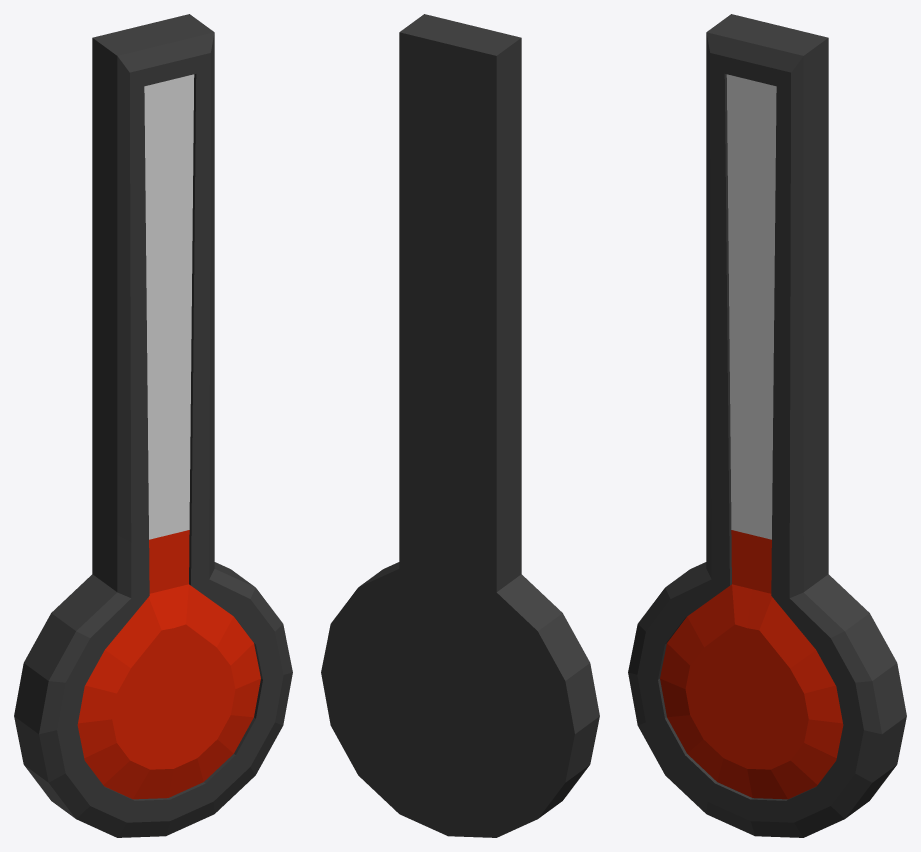
File: Thermometer.fbx
3 views of the same model, side by side, from view 1: azimuth 30°, elevation 25°; view 2: azimuth 150°, elevation 25°; view 3: azimuth 330°, elevation 25° (orthographic).
Visible parts, largest first — view 1: Cylinder.004; view 2: Cylinder.004; view 3: Cylinder.004.
Boxes of the visible parts, box(x1,y1,x2,y2) form: Cylinder.004: box(14, 14, 292, 837); Cylinder.004: box(321, 14, 599, 837); Cylinder.004: box(628, 14, 906, 837).
Size of the model in its own units: 71.63 by 213 by 16.03.
